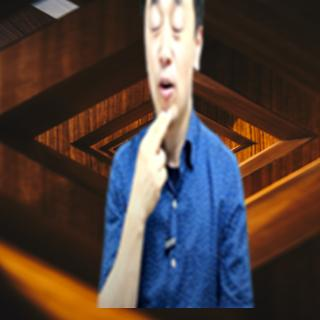DHAVE: (122, 108, 180, 221)
